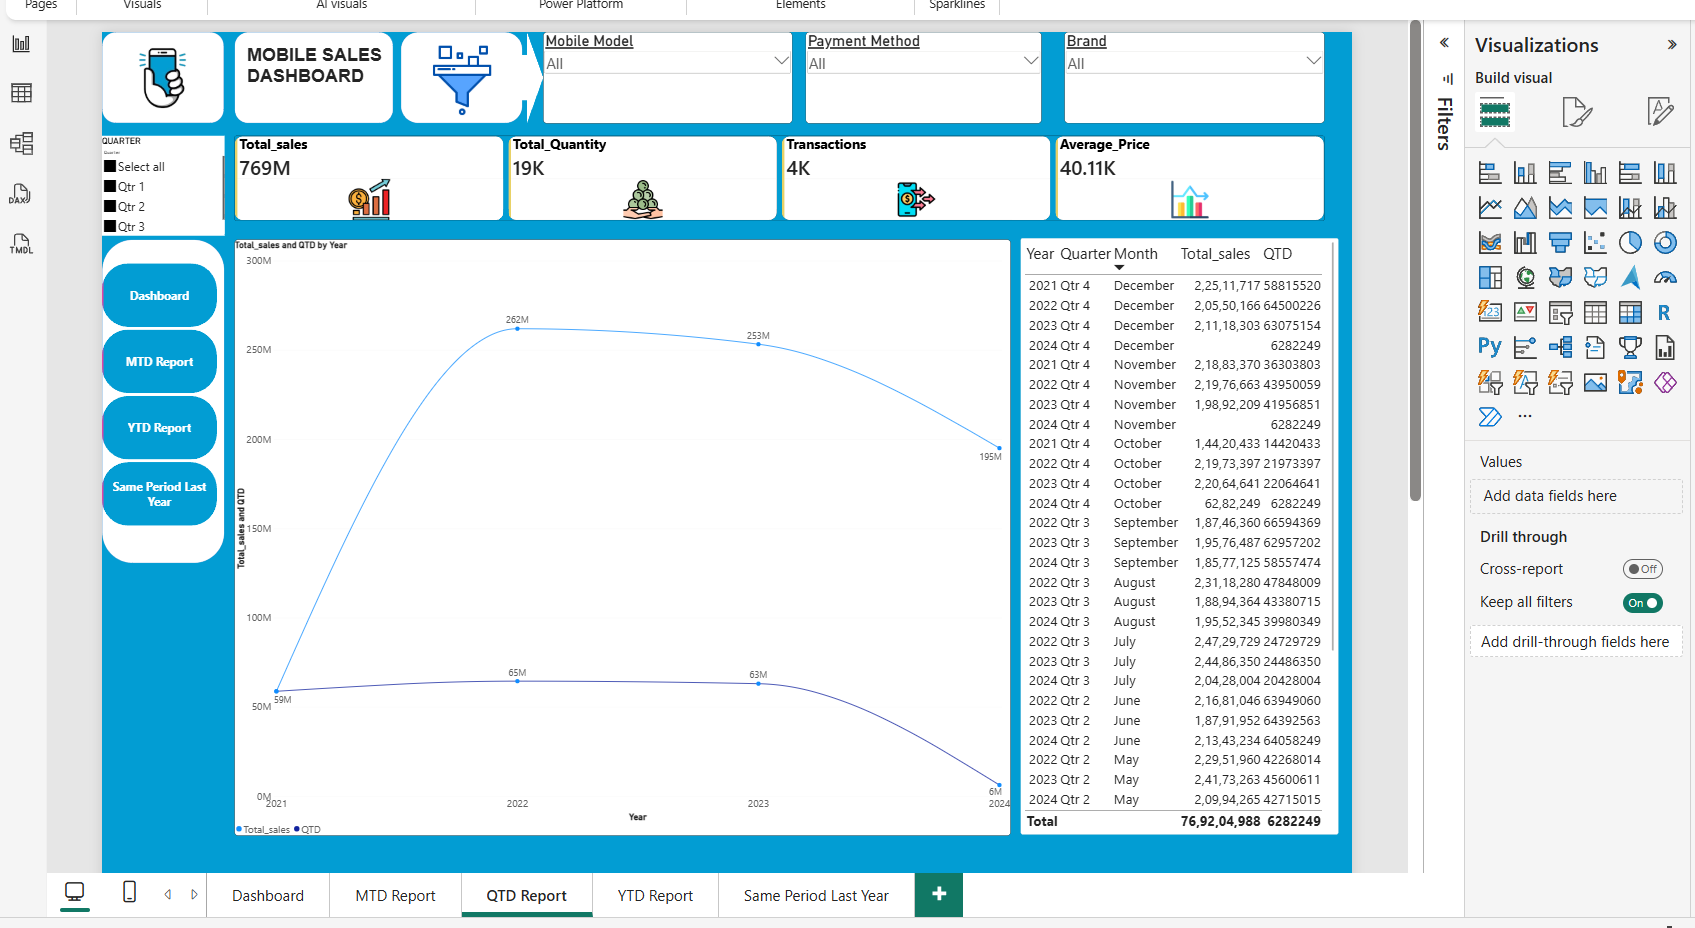

What the dashboard file says about the page in this screenshot:
{"tool":"powerbi","page":{"name":"QTD Report","canvas":[5000,6000],"ordinal":2},"visuals":[{"type":"shape","box":[0,0,487.8,364.5],"z":0},{"type":"image","box":[26.8,26.8,434.2,310.9],"z":1000},{"type":"cardVisual","fields":{"Data":["Mobile Sales Data.Total_sales","Mobile Sales Data.Total_Quantity","Mobile Sales Data.Transactions","Mobile Sales Data.Average_Price"]},"box":[530,415,4360,340],"z":2000},{"type":"slicer","fields":{"Values":["Mobile Sales Data.Mobile Model"]},"box":[1765.2,0,995.7,365.2],"z":3000},{"type":"slicer","fields":{"Values":["Mobile Sales Data.Payment Method"]},"box":[2813,0,943.5,365.2],"z":4000},{"type":"shape","box":[1195.7,0,487,365.2],"z":5000},{"type":"slicer","fields":{"Values":["Mobile Sales Data.Brand"]},"box":[3850,0,1040,365],"z":6000},{"type":"image","box":[1243.5,52.2,391.3,287],"z":7000},{"type":"shape","box":[1634.8,0,130.4,365.2],"z":8000},{"type":"shape","box":[530.4,0,634.8,365.2],"z":9000},{"type":"textbox","box":[578.3,52.2,556.5,287],"z":11000},{"type":"lineChart","fields":{"Category":["Custom Calender.Date.Variation.Date Hierarchy.Year","Custom Calender.Date.Variation.Date Hierarchy.Quarter","Custom Calender.Date.Variation.Date Hierarchy.Month"],"Y":["Mobile Sales Data.Total_sales","Mobile Sales Data.QTD"]},"box":[530,830,3105,2385],"z":12000},{"type":"tableEx","fields":{"Values":["Custom Calender.Date.Variation.Date Hierarchy.Year","Custom Calender.Date.Variation.Date Hierarchy.Quarter","Custom Calender.Date.Variation.Date Hierarchy.Month","Mobile Sales Data.Total_sales","Mobile Sales Data.QTD"]},"box":[3675,825,1270,2385],"z":13000},{"type":"slicer","title":"QUARTER","fields":{"Values":["Custom Calender.Date.Variation.Date Hierarchy.Quarter"]},"box":[0,415,490,400],"z":14000},{"type":"shape","box":[0,830,490,1295],"z":15000},{"type":"pageNavigator","box":[0,925,460,1050],"z":16000}]}

Visuals, with their boxes on the page's 5000x6000 design canvas (x1, y1, x2, y2). These are canvas units, not pixel positions in the 1695x928 screenshot, which may show the page scaled, cropped or inside an application window:
shape: [0, 0, 488, 364]
image: [27, 27, 461, 338]
cardVisual - Mobile Sales Data.Total_sales x Mobile Sales Data.Total_Quantity: [530, 415, 4890, 755]
slicer - Mobile Sales Data.Mobile Model: [1765, 0, 2761, 365]
slicer - Mobile Sales Data.Payment Method: [2813, 0, 3756, 365]
shape: [1196, 0, 1683, 365]
slicer - Mobile Sales Data.Brand: [3850, 0, 4890, 365]
image: [1244, 52, 1635, 339]
shape: [1635, 0, 1765, 365]
shape: [530, 0, 1165, 365]
textbox: [578, 52, 1135, 339]
lineChart - Custom Calender.Date.Variation.Date Hierarchy.Year x Custom Calender.Date.Variation.Date Hierarchy.Quarter: [530, 830, 3635, 3215]
tableEx - Custom Calender.Date.Variation.Date Hierarchy.Year x Custom Calender.Date.Variation.Date Hierarchy.Quarter: [3675, 825, 4945, 3210]
"QUARTER" slicer: [0, 415, 490, 815]
shape: [0, 830, 490, 2125]
pageNavigator: [0, 925, 460, 1975]
